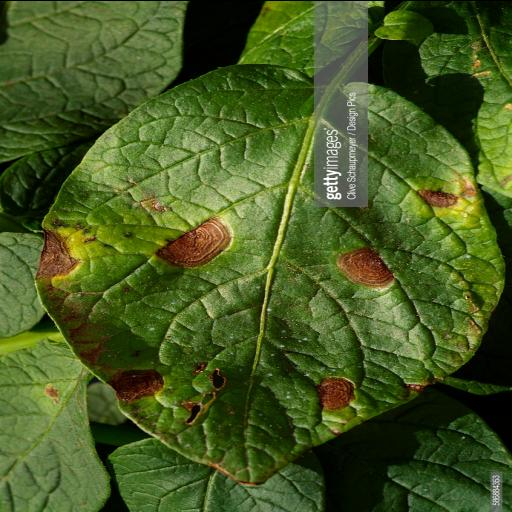Early Blight: (34, 60, 502, 484)
